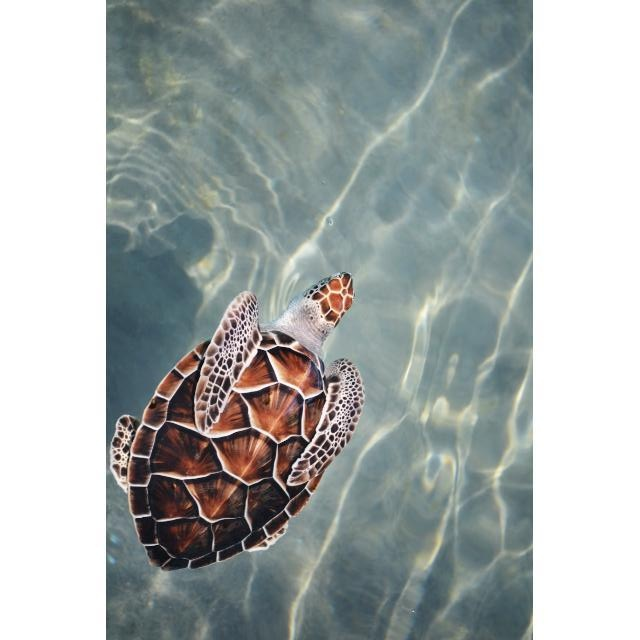turtle: (110, 273, 364, 572)
